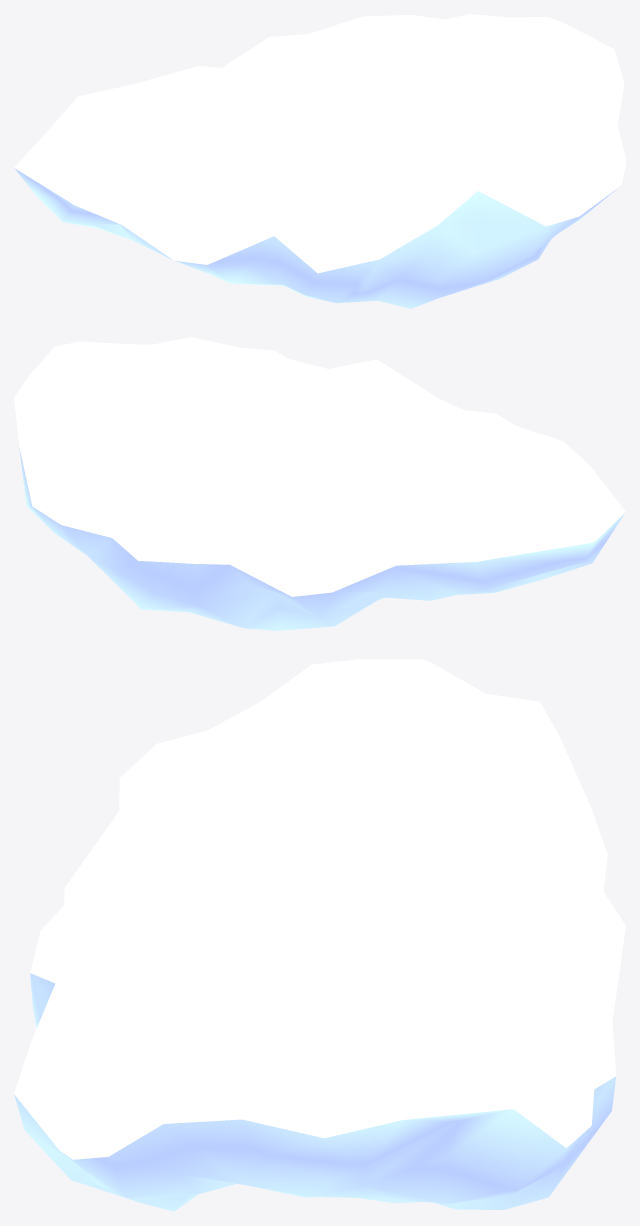
Rendered from Nuvem.glb.
3 renders of one model, top to bottom at view 1: azimuth 30°, elevation 25°; view 2: azimuth 150°, elevation 25°; view 3: azimuth 270°, elevation 25°, orthographic. The views are drawn at different scales.
Parts seen in each view (by area): view 1: rock.001; view 2: rock.001; view 3: rock.001.
Boxes of the visible parts, x1,y1,x2,y2 form: rock.001: [14, 14, 625, 308]; rock.001: [14, 337, 625, 630]; rock.001: [14, 659, 625, 1211].
Size of the model in its own units: 7.71 by 2.54 by 4.38.
